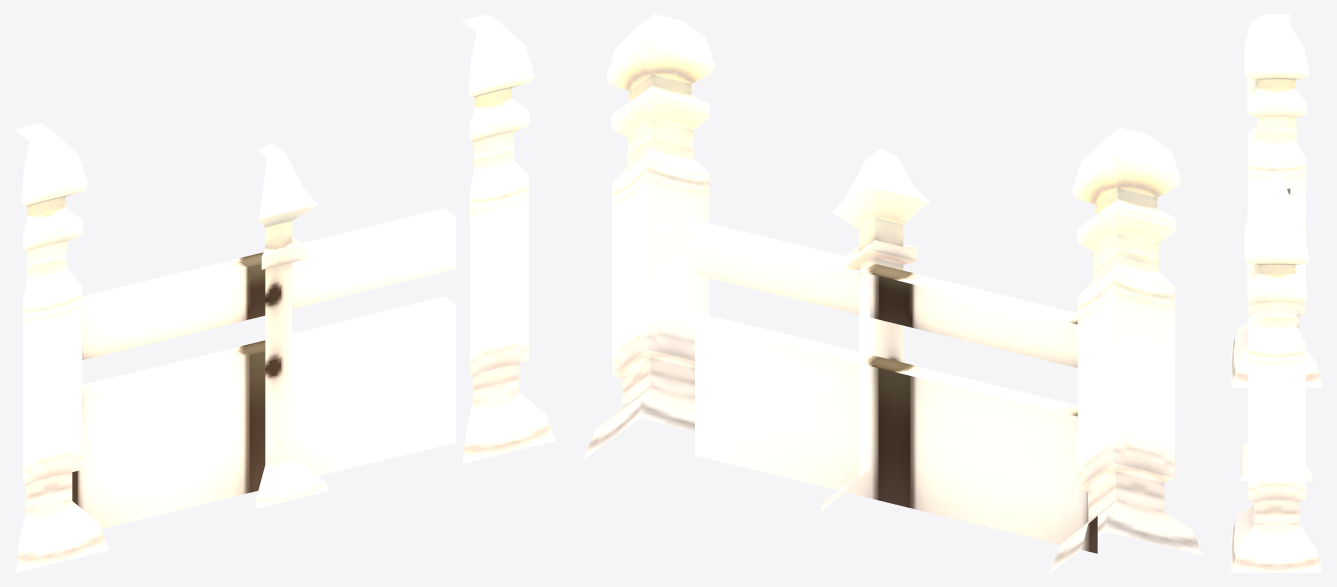
File: LineDeco_Fence(X).fbx
3 views of the same model, side by side, from view 1: azimuth 30°, elevation 25°; view 2: azimuth 150°, elevation 25°; view 3: azimuth 270°, elevation 25° (orthographic). The views are drawn at different scales.
Parts seen in each view (by area): view 1: Deco_Fence_Line(X); view 2: Deco_Fence_Line(X); view 3: Deco_Fence_Line(X).
Part boxes in pixels (x1,y1,x2,y2): Deco_Fence_Line(X): [14, 14, 555, 572]; Deco_Fence_Line(X): [584, 14, 1202, 572]; Deco_Fence_Line(X): [1231, 14, 1322, 572].
Size of the model in its own units: 341 by 247 by 58.74.
